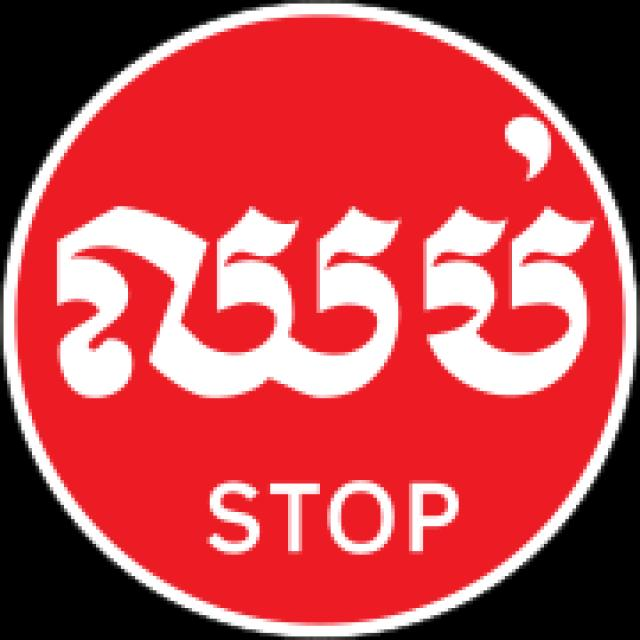Traffic sign: (28, 80, 605, 588)
